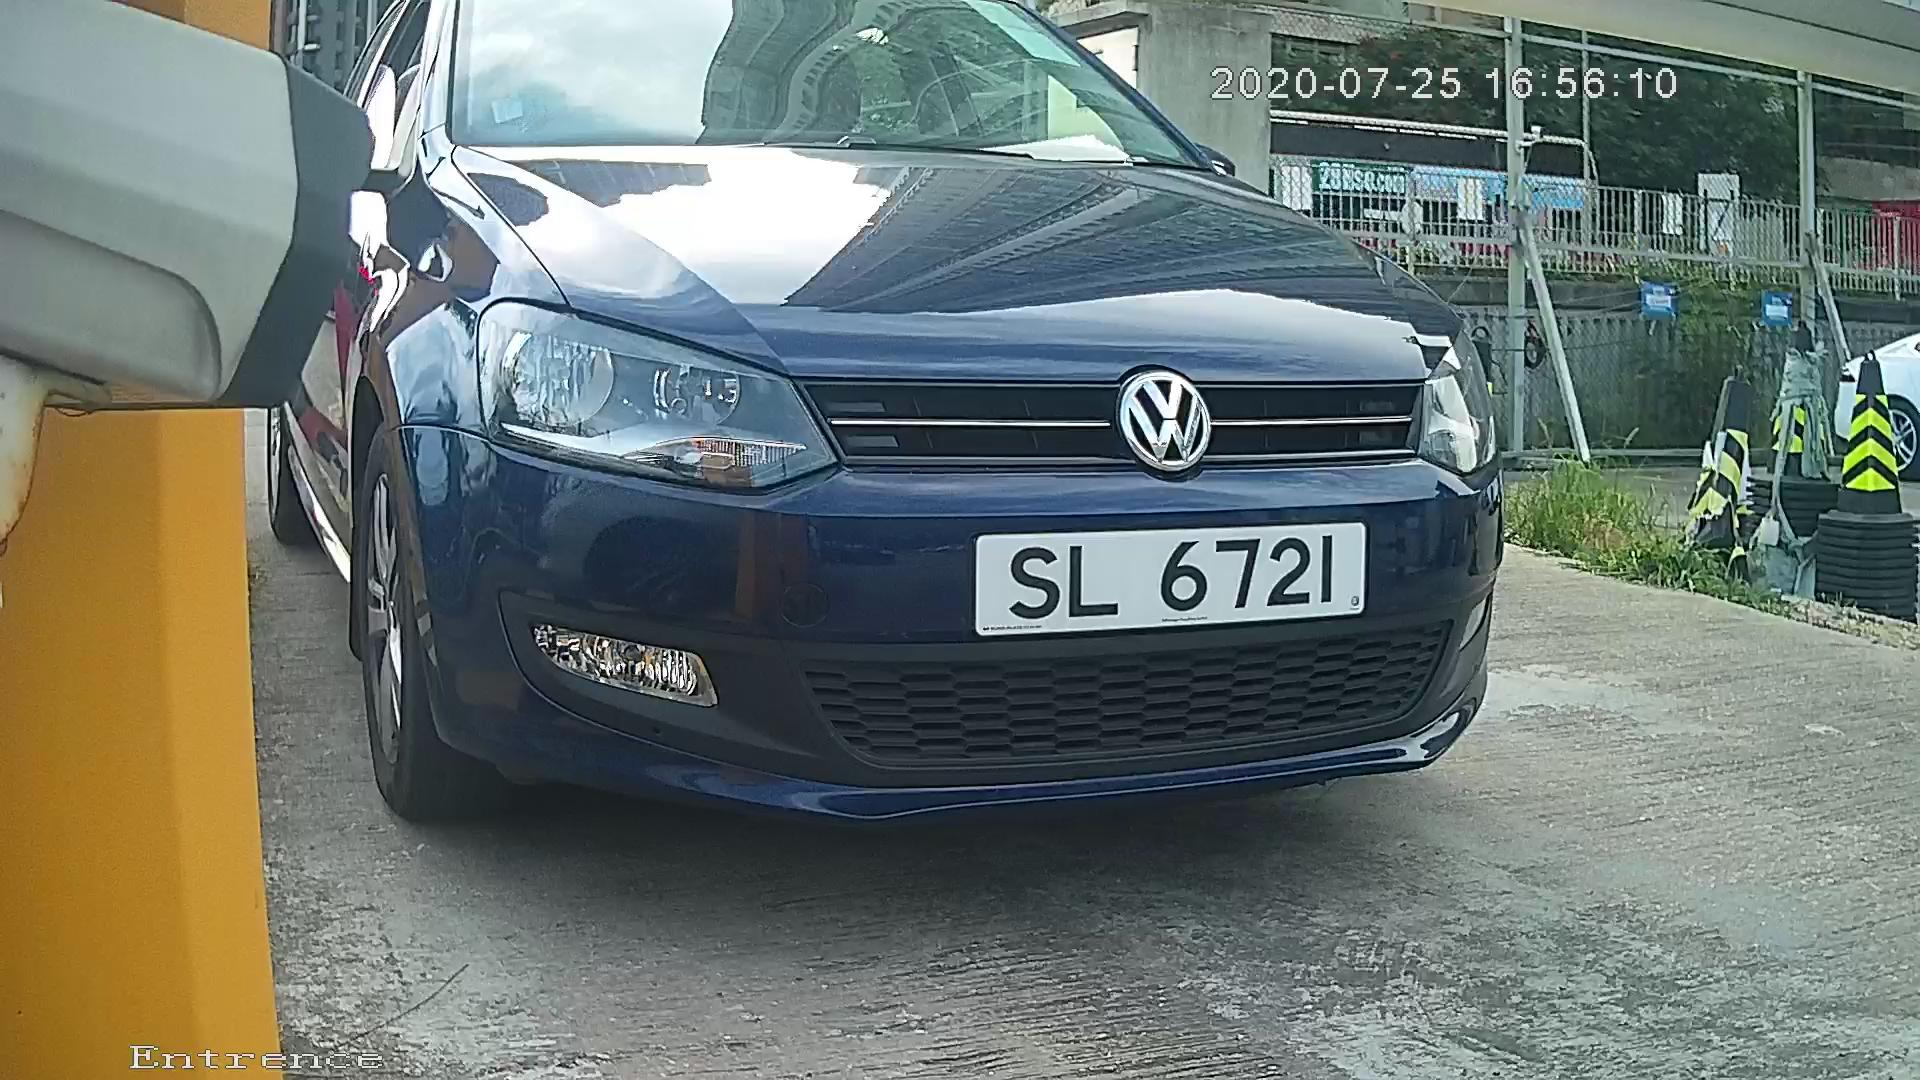License Plate: (952, 507, 1389, 637)
